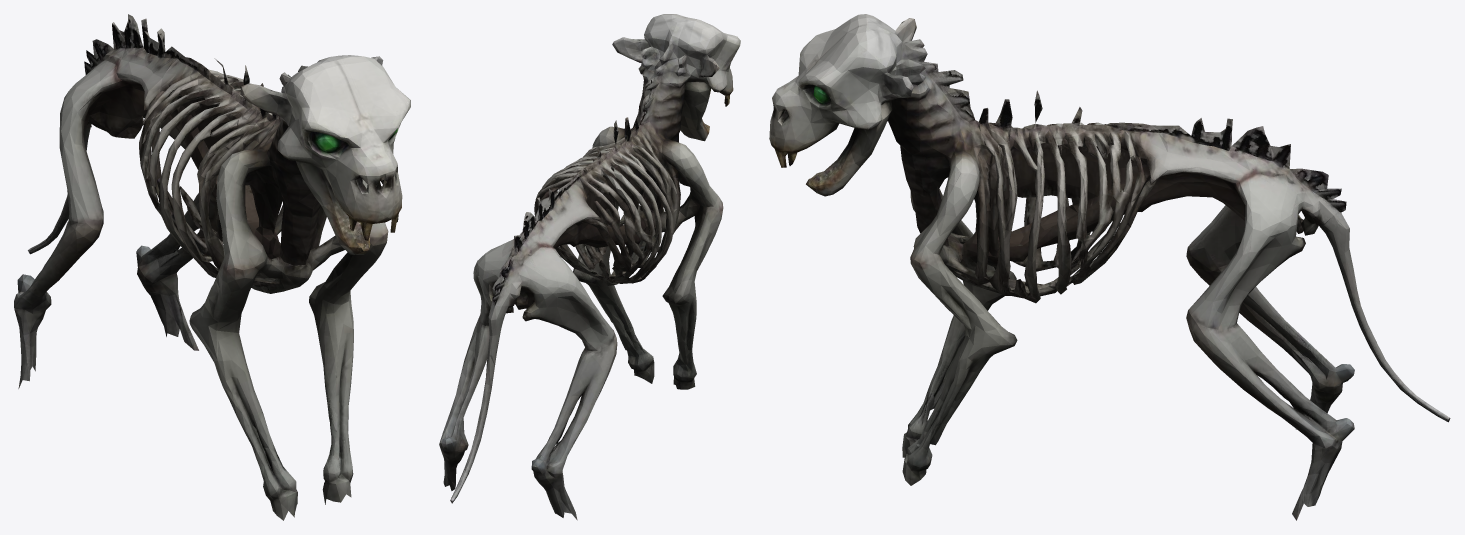
File: enemy_rot_hound_hd.glb
3 renders of one model, left to right at view 1: azimuth 30°, elevation 25°; view 2: azimuth 150°, elevation 25°; view 3: azimuth 270°, elevation 25°, orthographic. The views are drawn at different scales.
Bounding box in the file's own units: 0.2926 × 0.7369 × 1.
1 material, 1 textured.
